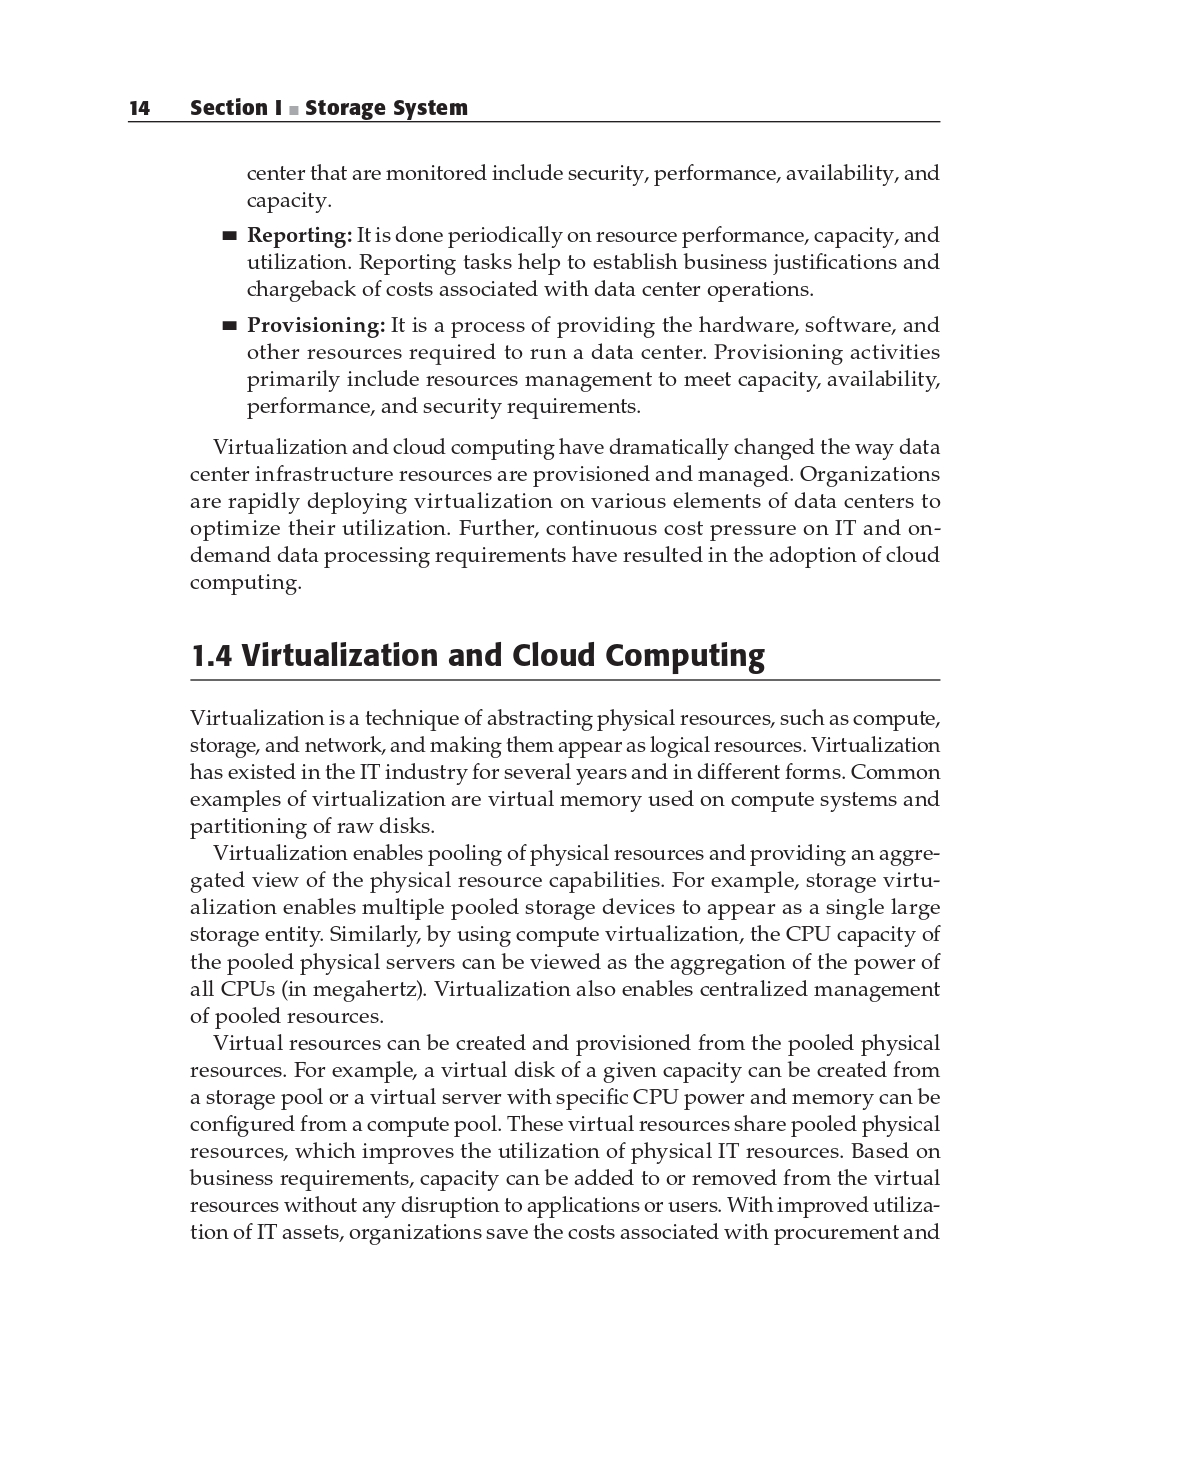Paragraph: (187, 1036, 943, 1253), (190, 844, 947, 1031), (181, 427, 947, 599), (187, 695, 947, 835), (245, 315, 947, 418), (242, 143, 941, 219), (242, 228, 941, 304), (190, 634, 788, 684), (114, 73, 479, 122)
